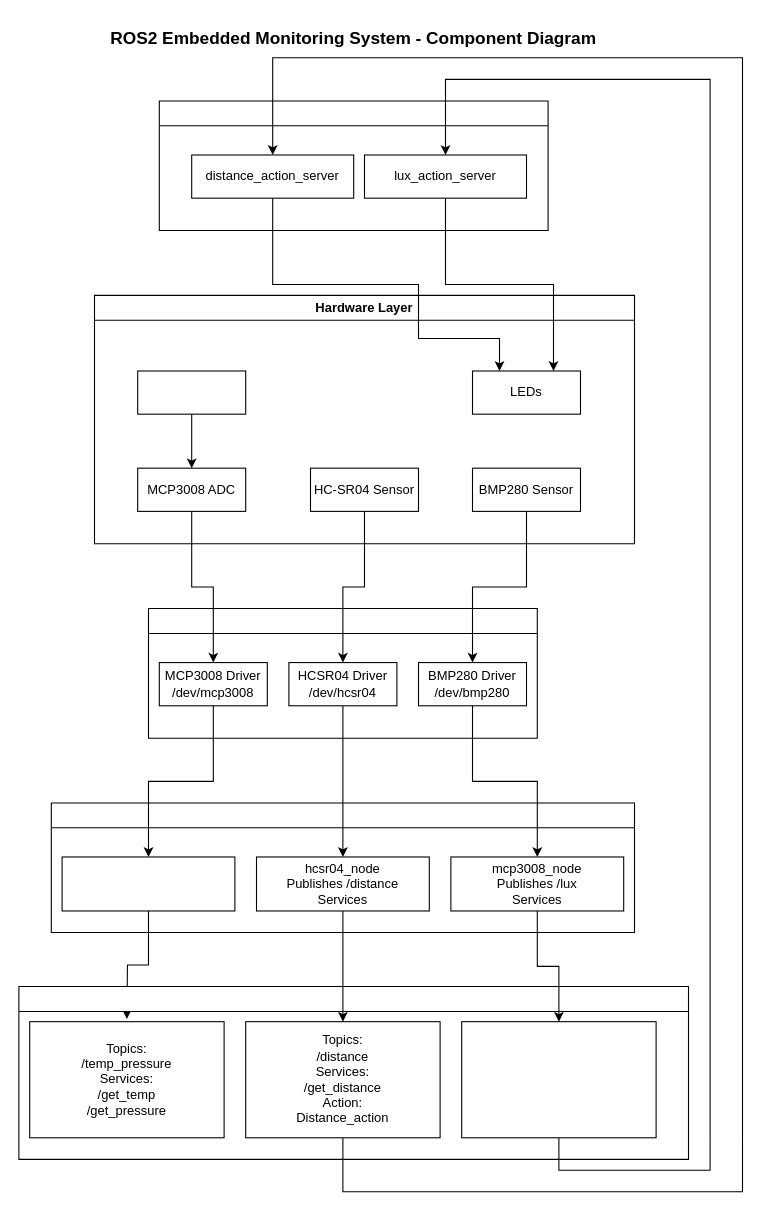
The diagram is 770 pixels wide and 1219 high, and some of its shapes have lost their labels. The shapes that lost their labels are listed below. From the top down, each one's box as (x1, y1, x2, y2) in pixels, then its label:
(158, 100, 548, 231): ROS2 Layer - process node
(137, 370, 246, 414): LDR Sensor
(147, 608, 537, 738): Driver Layer
(61, 856, 235, 911): bmp280_node Publishes /temp_pressure Services
(50, 802, 634, 933): ROS2 Layer - sensor node
(18, 986, 688, 1159): ROS2 Communication
(461, 1021, 656, 1138): Topics: /lux Services: /get_lux Action: Lux_action
